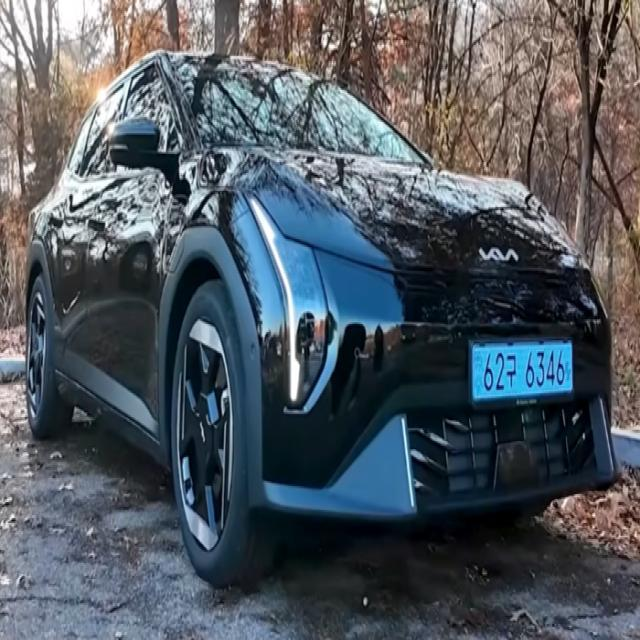car: (459, 329, 589, 420)
carev: (471, 341, 485, 405), (563, 340, 576, 398)
